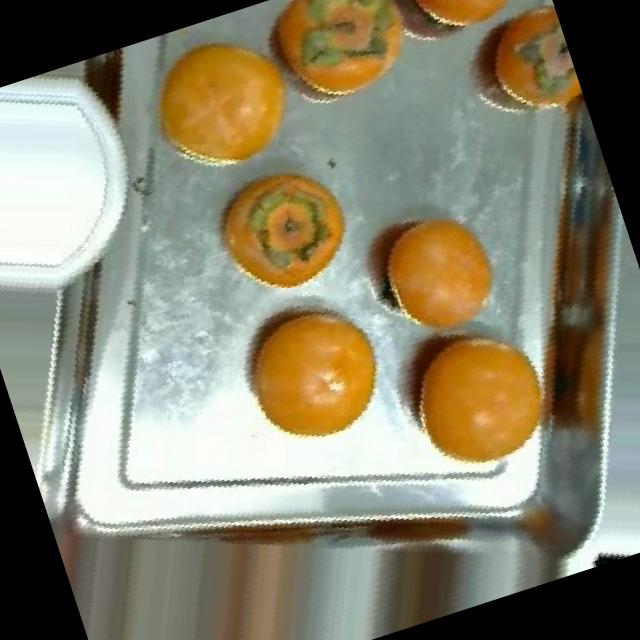Fruit: (353, 283, 588, 512), (200, 264, 422, 483), (108, 0, 333, 208), (182, 134, 381, 325), (338, 174, 532, 368), (233, 0, 441, 137), (430, 0, 589, 153), (379, 0, 556, 63)
